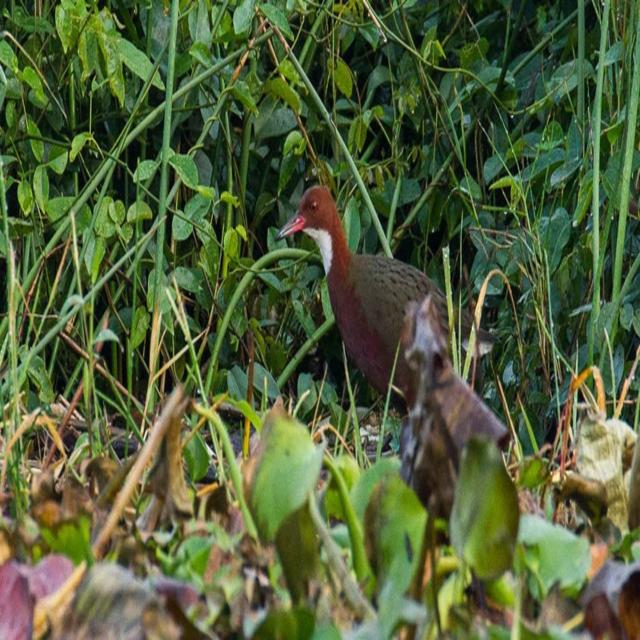bird: (289, 188, 455, 462)
